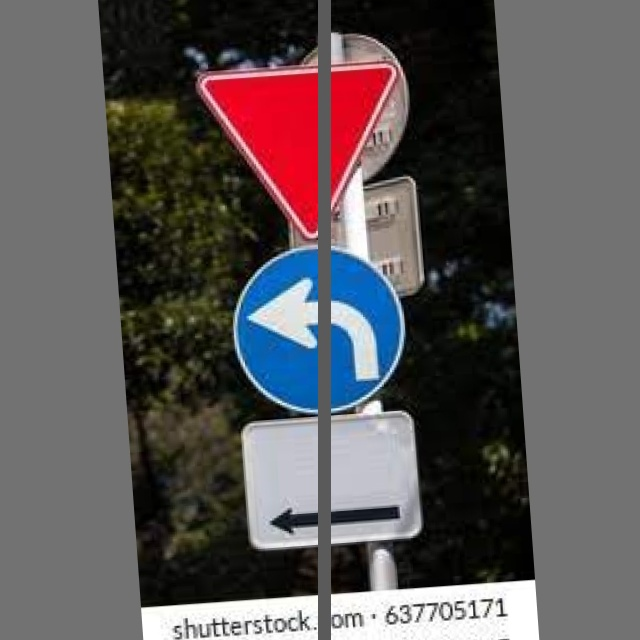Compulsory_Turn_Left_Ahead: (229, 244, 412, 417)
